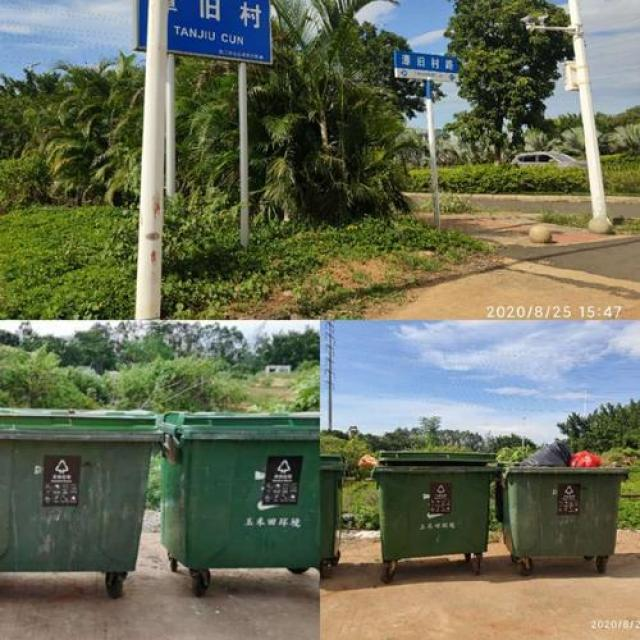garbage_bin: (0, 407, 160, 571), (160, 408, 317, 567), (370, 450, 494, 560), (320, 453, 344, 563)
overflow: (495, 438, 626, 556)
